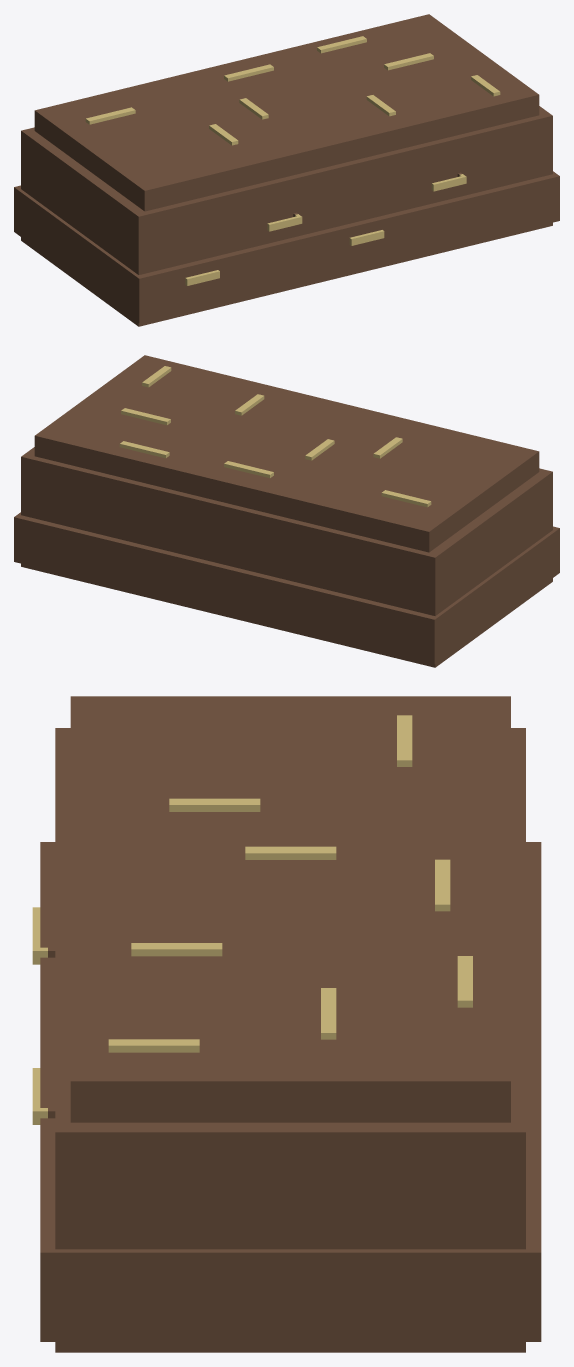
Rendered from soft_adobe_brick.glb.
3 renders of one model, top to bottom at view 1: azimuth 30°, elevation 25°; view 2: azimuth 150°, elevation 25°; view 3: azimuth 270°, elevation 25°, orthographic. The views are drawn at different scales.
Visible parts, largest first — view 1: soft_adobe_brick:compound; view 2: soft_adobe_brick:compound; view 3: soft_adobe_brick:compound.
Boxes of the visible parts, x1,y1,x2,y2 form: soft_adobe_brick:compound: (14,14,559,326); soft_adobe_brick:compound: (14,355,559,667); soft_adobe_brick:compound: (32,696,541,1352).
Size of the model in its own units: 0.256 by 0.078 by 0.134.
